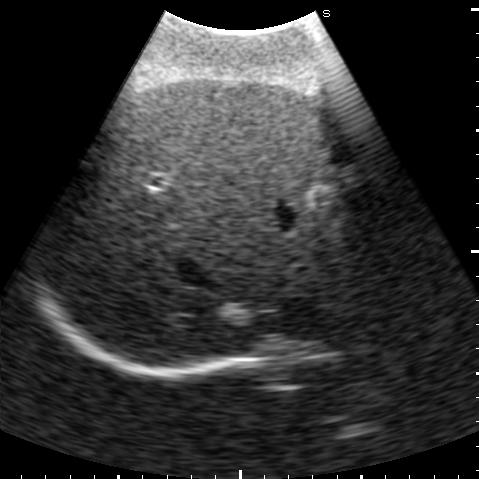S5: (117, 78, 342, 195)
S7: (44, 145, 168, 315)
S8: (91, 172, 383, 367)
Tumor: (213, 302, 254, 325)
